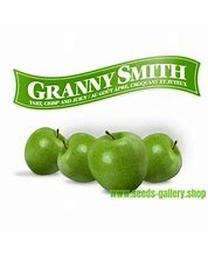apple: (87, 130, 147, 192), (25, 127, 69, 175), (141, 133, 183, 183), (57, 133, 97, 183)
